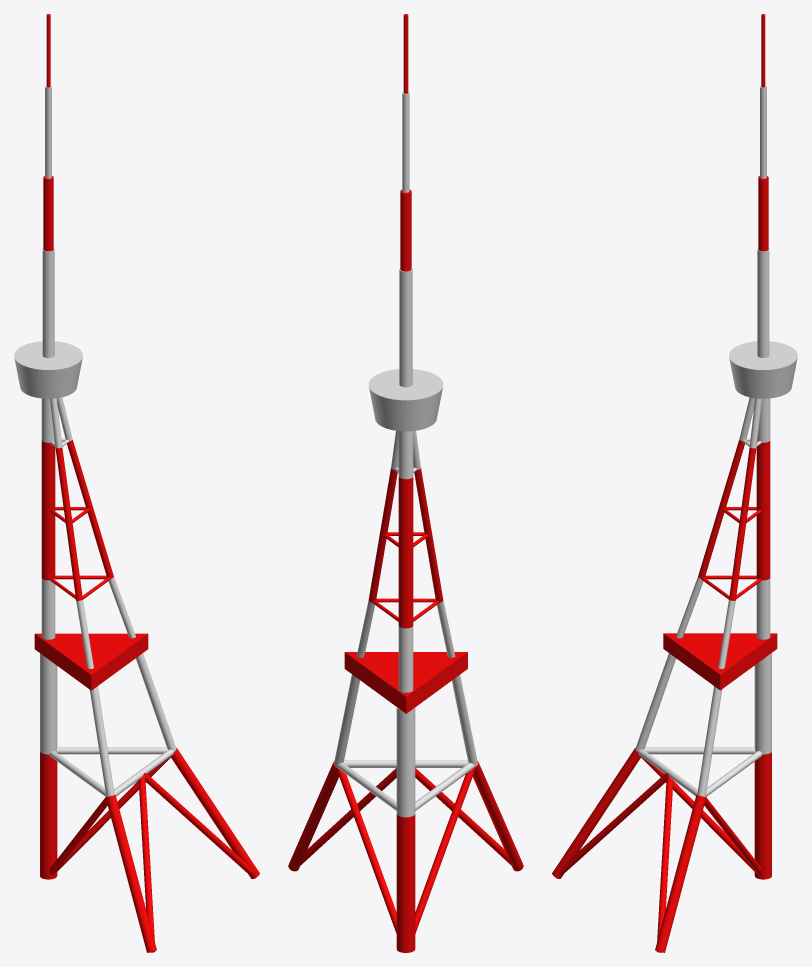
The picture shows the model from 3 angles, left to right: view 1: azimuth 30°, elevation 25°; view 2: azimuth 150°, elevation 25°; view 3: azimuth 270°, elevation 25°; orthographic projection. The views are drawn at different scales.
Parts seen in each view (by area): view 1: Mtatsminda_red, Mtatsminda_white; view 2: Mtatsminda_red, Mtatsminda_white; view 3: Mtatsminda_red, Mtatsminda_white.
Boxes of the visible parts, box(x1,y1,x2,y2) form: Mtatsminda_red: box(34, 14, 259, 952); Mtatsminda_white: box(14, 85, 176, 796); Mtatsminda_red: box(288, 14, 523, 952); Mtatsminda_white: box(334, 92, 477, 817); Mtatsminda_red: box(552, 14, 777, 952); Mtatsminda_white: box(635, 85, 797, 796).
Bounding box in the file's own units: 63.3 × 276 × 71.29.
